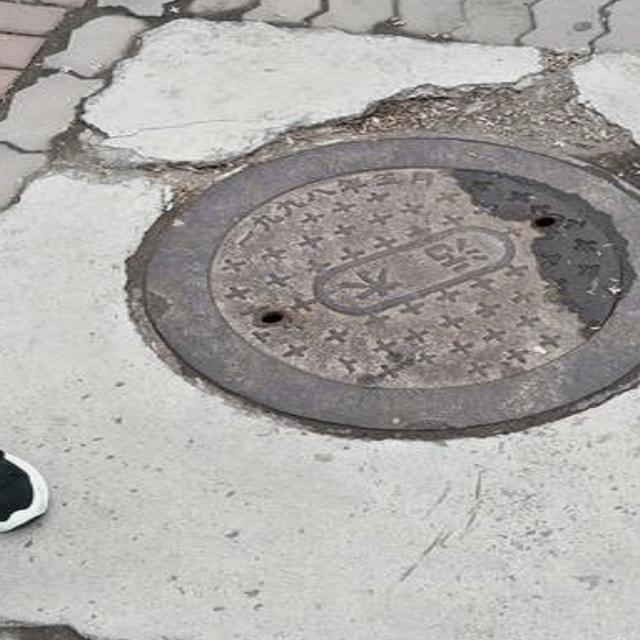circle: (15, 60, 640, 490)
